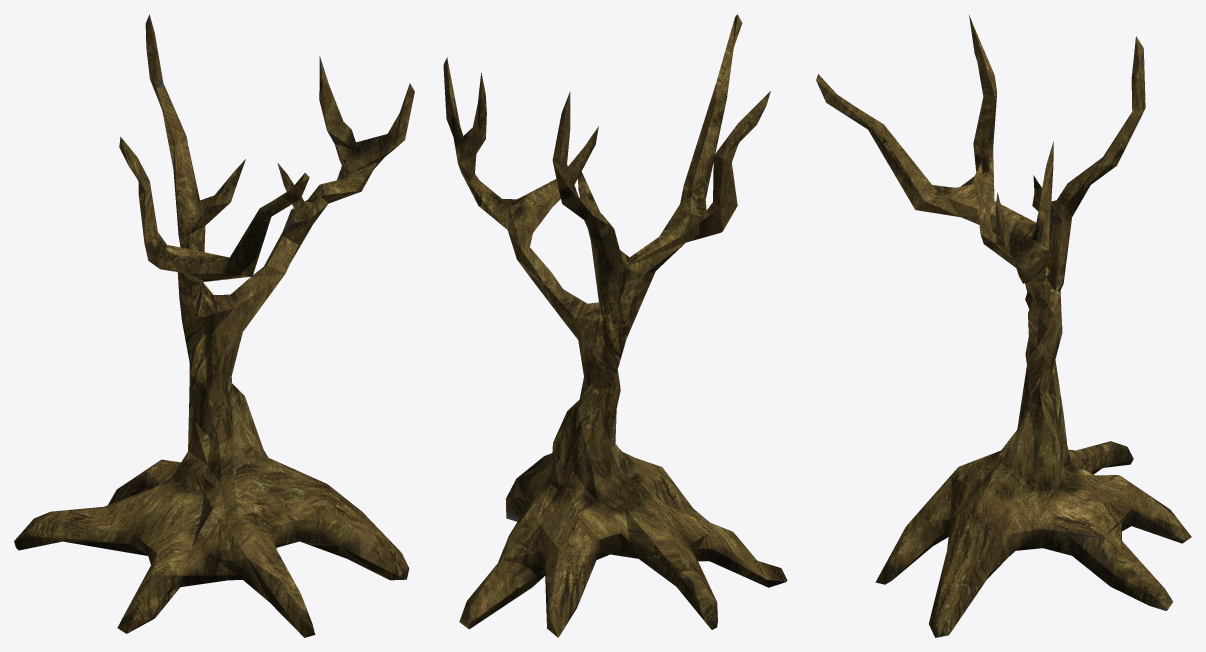
The model's file is noleaves.glb.
The picture shows the model from 3 angles, left to right: view 1: azimuth 30°, elevation 25°; view 2: azimuth 150°, elevation 25°; view 3: azimuth 270°, elevation 25°; orthographic projection. The views are drawn at different scales.
Visible parts, largest first — view 1: LP; view 2: LP; view 3: LP.
Boxes of the visible parts, left/top/right/bottom form: LP: left=14, top=14, right=414, bottom=637; LP: left=443, top=14, right=787, bottom=637; LP: left=816, top=15, right=1191, bottom=637.
Bounding box in the file's own units: 7.1 × 10.9 × 6.94.
1 material, 1 textured.
